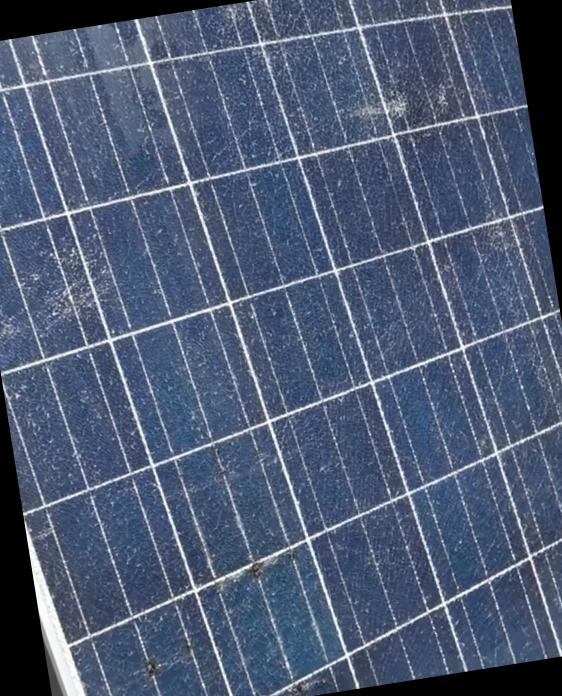Crack: (0, 0, 561, 695), (16, 224, 128, 332), (327, 75, 414, 140)
